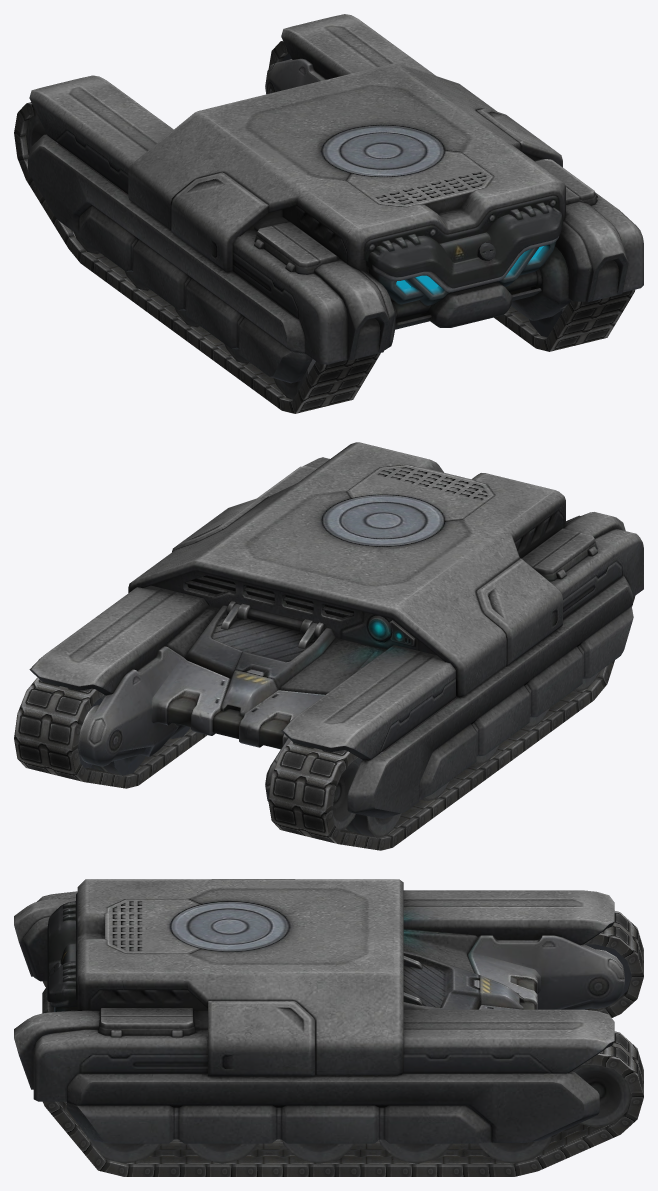
File: wasp_standard.gltf
The picture shows the model from 3 angles, top to bottom: view 1: azimuth 30°, elevation 25°; view 2: azimuth 150°, elevation 25°; view 3: azimuth 270°, elevation 25°; orthographic projection. The views are drawn at different scales.
Visible parts, largest first — view 1: Hull, lTrack, rTrack; view 2: Hull, lTrack, rTrack, lwheel_f, lwheel_1, rwheel_1; view 3: Hull, rTrack, lTrack, rwheel_f, rwheel_1, rwheel_2, rwheel_3, rwheel_5, rwheel_4.
Part boxes in pixels (x1,y1,x2,y2): Hull: (28, 14, 643, 383); lTrack: (14, 102, 380, 413); rTrack: (268, 40, 635, 351); Hull: (29, 442, 643, 818); lTrack: (268, 596, 635, 850); rTrack: (14, 677, 207, 788); lwheel_f: (332, 760, 359, 830); lwheel_1: (344, 757, 401, 837); rwheel_1: (89, 695, 145, 775); Hull: (14, 879, 624, 1143); rTrack: (43, 1031, 643, 1176); lTrack: (43, 911, 643, 1017); rwheel_f: (572, 1064, 631, 1127); rwheel_1: (477, 1136, 551, 1163); rwheel_2: (379, 1139, 452, 1163); rwheel_3: (282, 1140, 355, 1163); rwheel_5: (87, 1136, 161, 1163); rwheel_4: (186, 1143, 258, 1163).
Bounding box in the file's own units: 3 × 1.48 × 4.81.
Materials: 2 (2 with a texture image).
